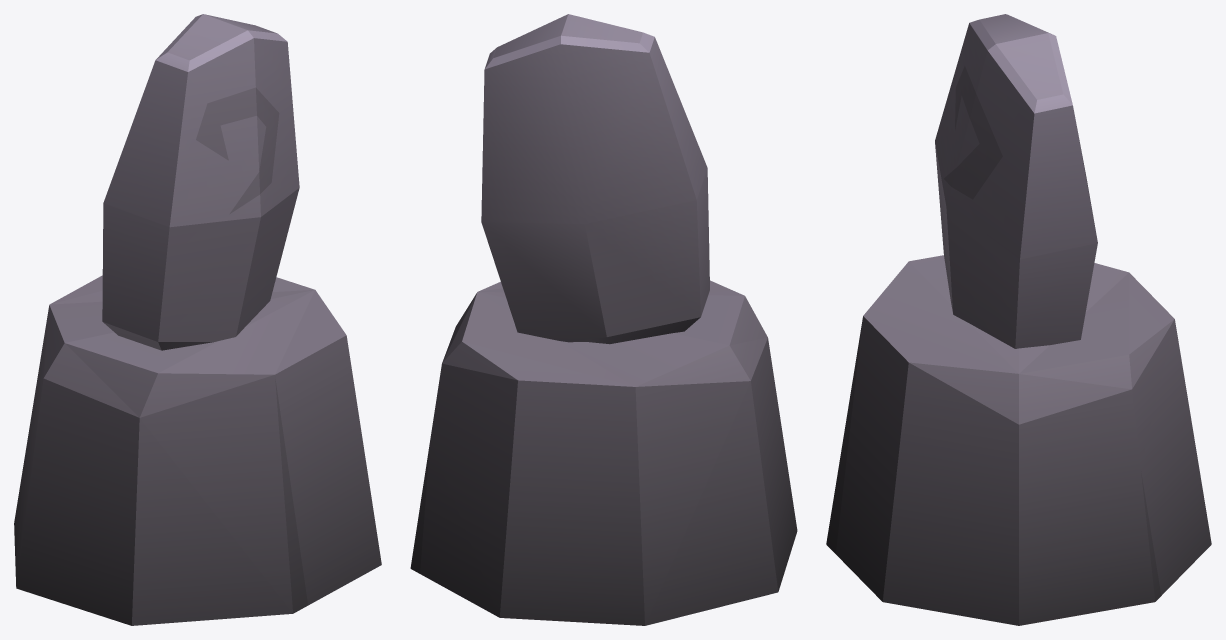
File: grave_4.glb
3 renders of one model, left to right at view 1: azimuth 30°, elevation 25°; view 2: azimuth 150°, elevation 25°; view 3: azimuth 270°, elevation 25°, orthographic.
Visible parts, largest first — view 1: grave_4; view 2: grave_4; view 3: grave_4.
Boxes of the visible parts, x1,y1,x2,y2 form: grave_4: (14,14,381,625); grave_4: (410,14,797,625); grave_4: (826,14,1211,625).
Bounding box in the file's own units: 0.9511 × 1.35 × 0.9047.
1 material, 1 textured.
